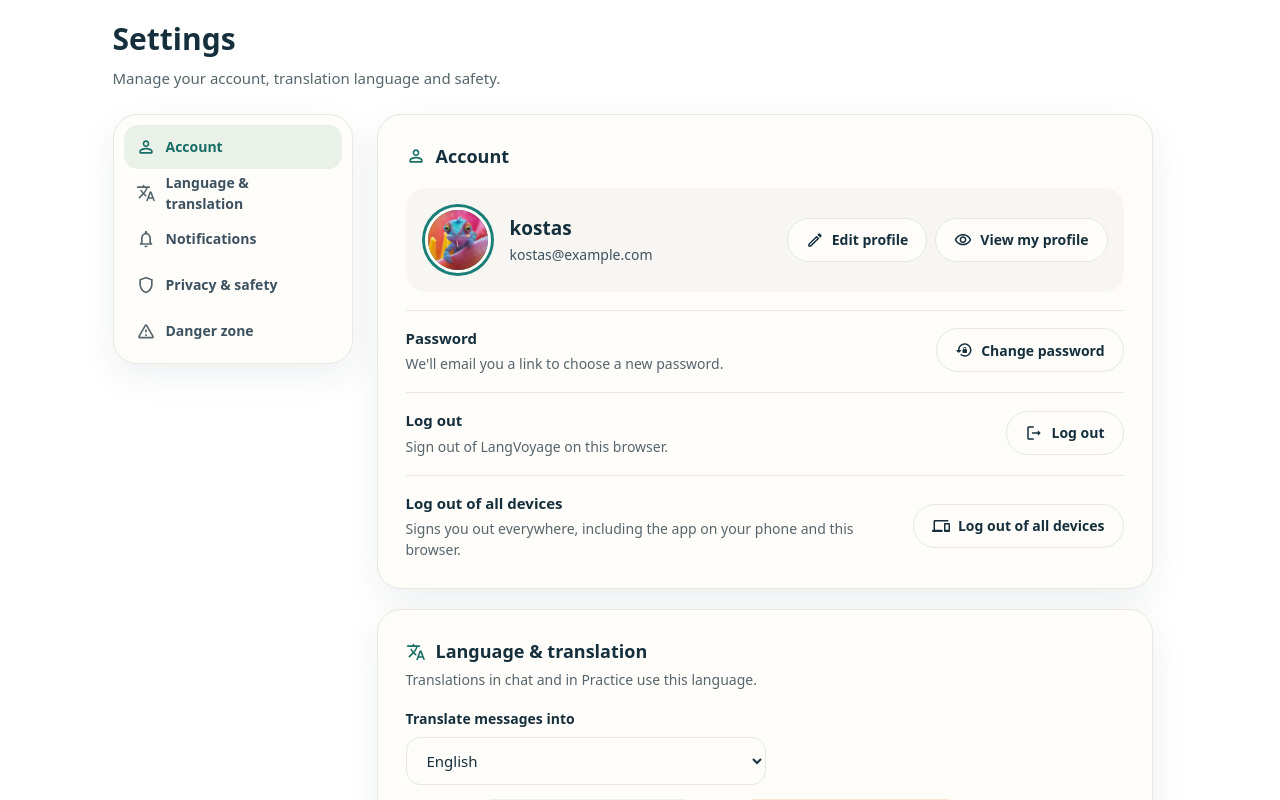
SettingsPage › password dialog closes on Escape without sending
Step 1. Click the button "Change password" → (1030, 350), box left=936, top=328, right=1124, bottom=372
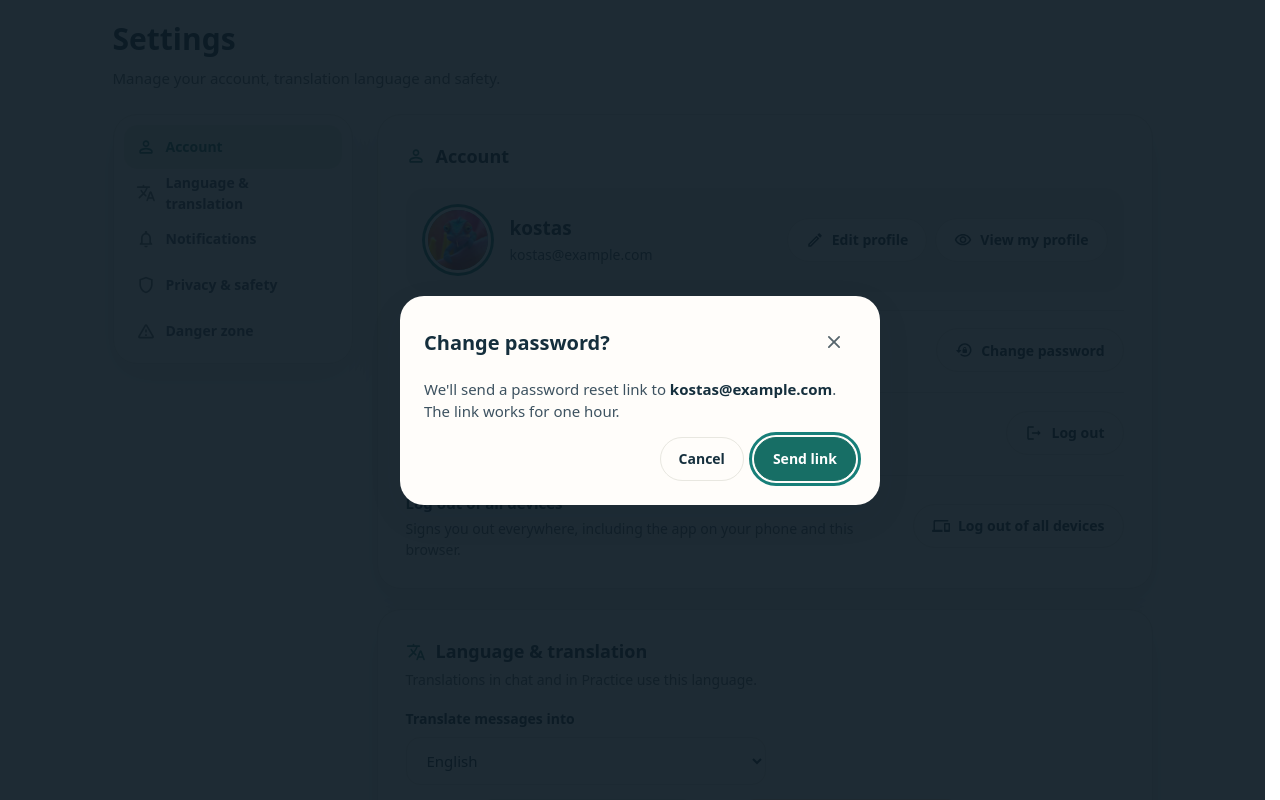
Step 2. Press Escape in the dialog, box left=400, top=296, right=880, bottom=504
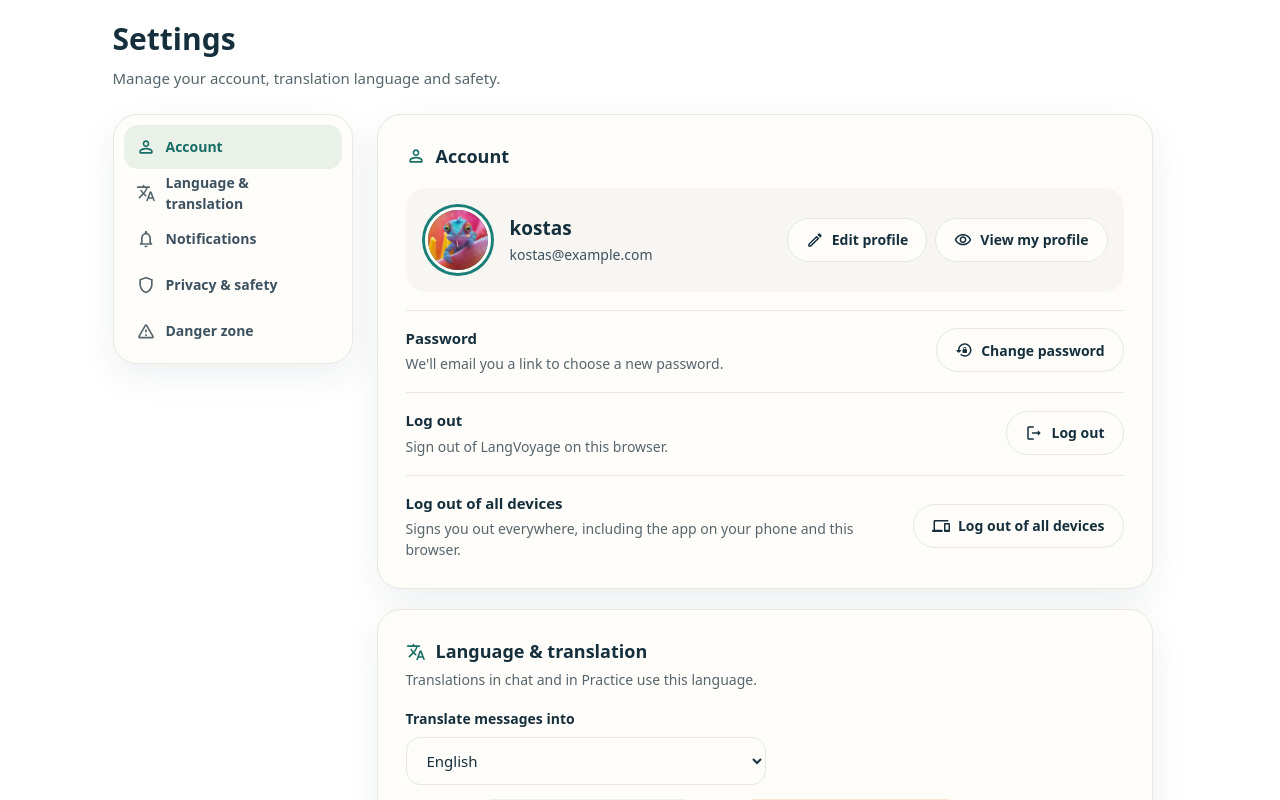
Expected: the dialog is gone
